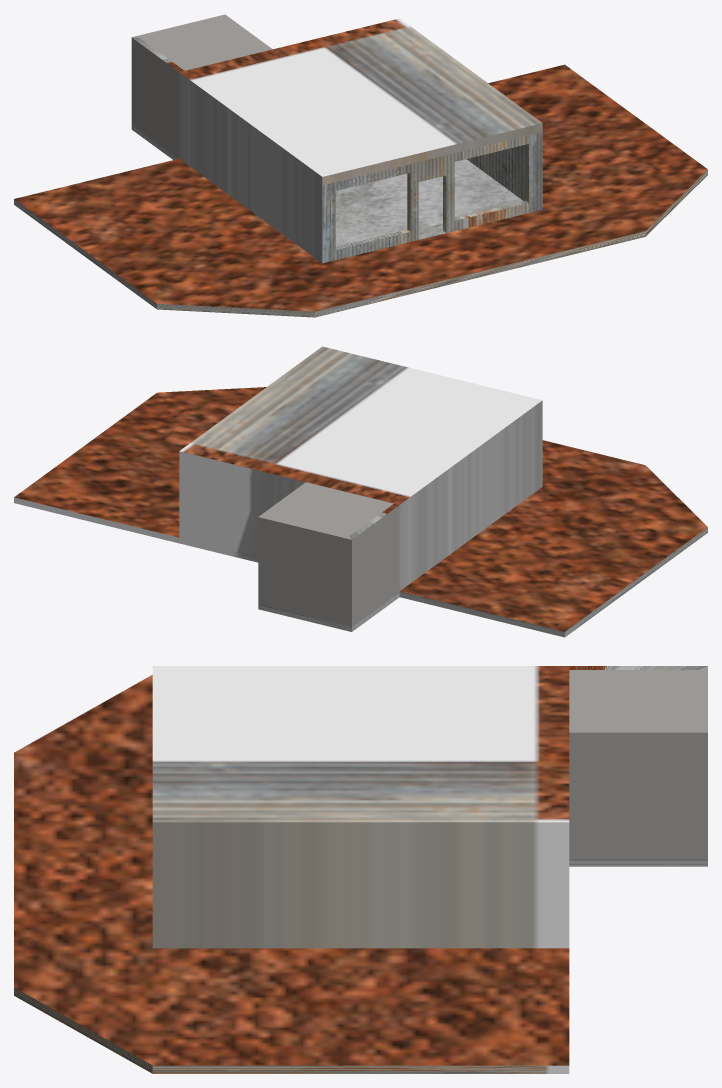
File: SpaceDealersMap.fbx
3 views of the same model, one above another, from view 1: azimuth 30°, elevation 25°; view 2: azimuth 150°, elevation 25°; view 3: azimuth 270°, elevation 25° (orthographic). The views are drawn at different scales.
Parts seen in each view (by area): view 1: Map; view 2: Map; view 3: Map.
Boxes of the visible parts, bbox=[...] form: Map: bbox=[14, 14, 707, 317]; Map: bbox=[14, 346, 707, 637]; Map: bbox=[14, 666, 707, 1073].
Size of the model in its own units: 2000 by 320 by 1500.
1 material, 1 textured.
